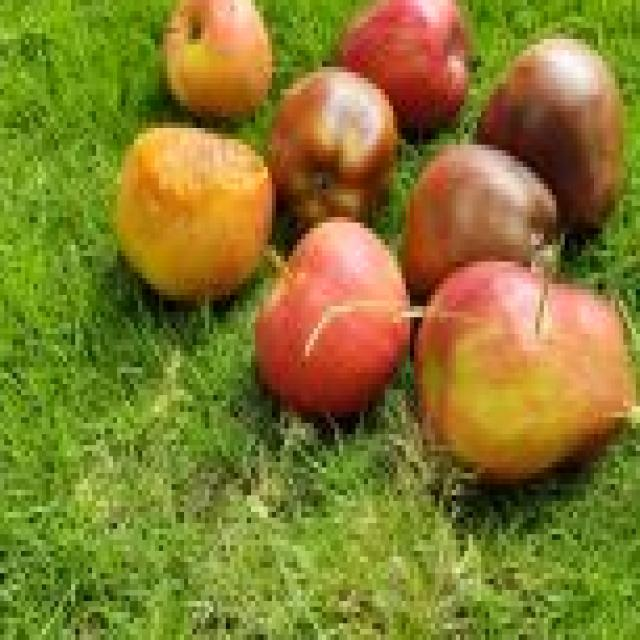Bad_Apple 0-1 day: (406, 39, 623, 296), (119, 128, 272, 302)
Good_Apple 10-21 days: (257, 228, 636, 484), (339, 0, 468, 166), (165, 0, 270, 115)
